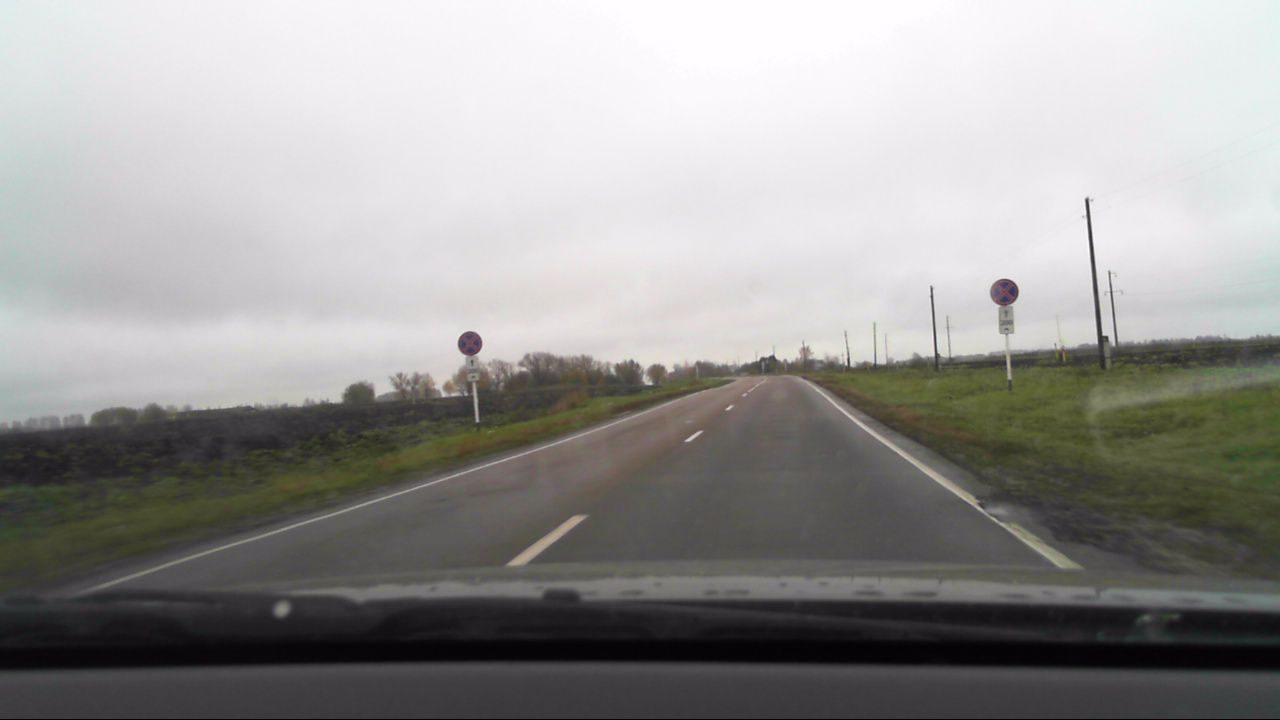No Parking: (456, 328, 485, 355)
